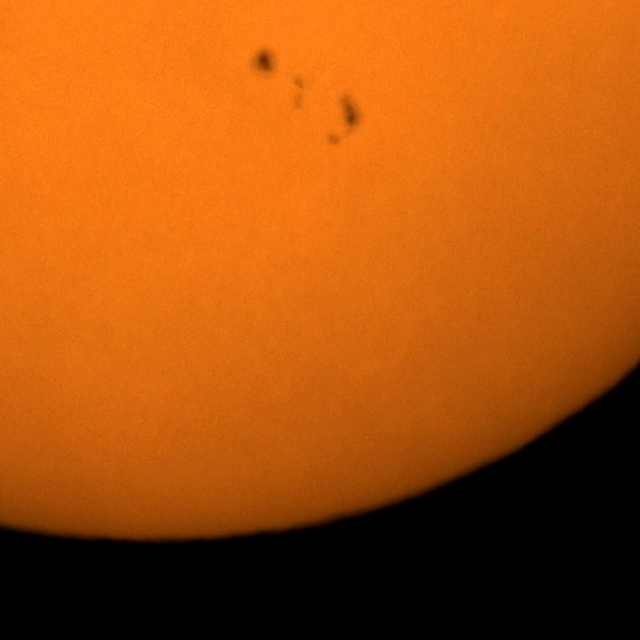sunspot: (254, 44, 276, 80)
